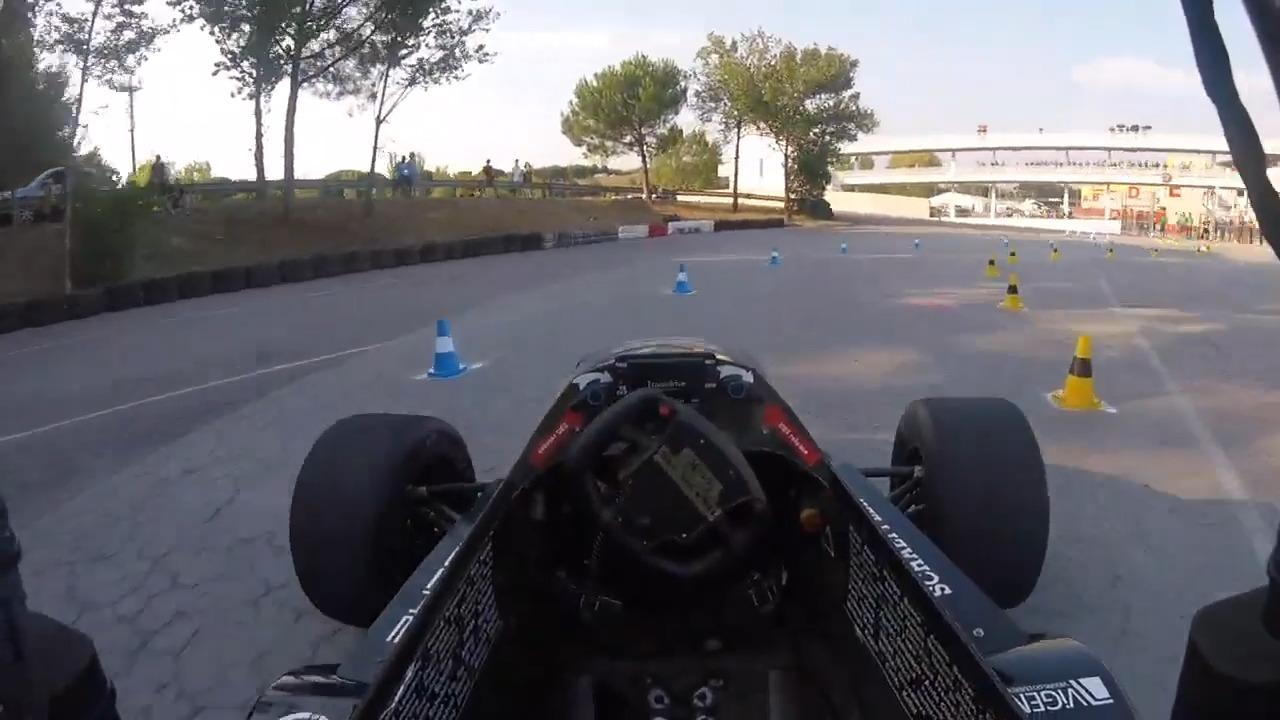blue_cone: (425, 316, 469, 380), (667, 259, 698, 298), (768, 244, 783, 267), (837, 239, 849, 259)
yellow_cone: (1053, 330, 1107, 414), (997, 273, 1027, 313), (982, 251, 1000, 280), (1004, 244, 1022, 272), (1048, 242, 1063, 267)
